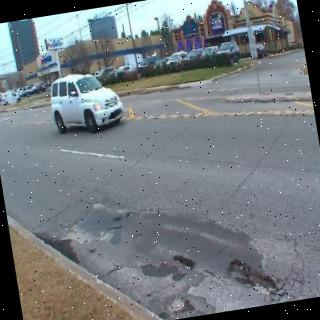pothole: (227, 259, 278, 296), (174, 252, 194, 269)
